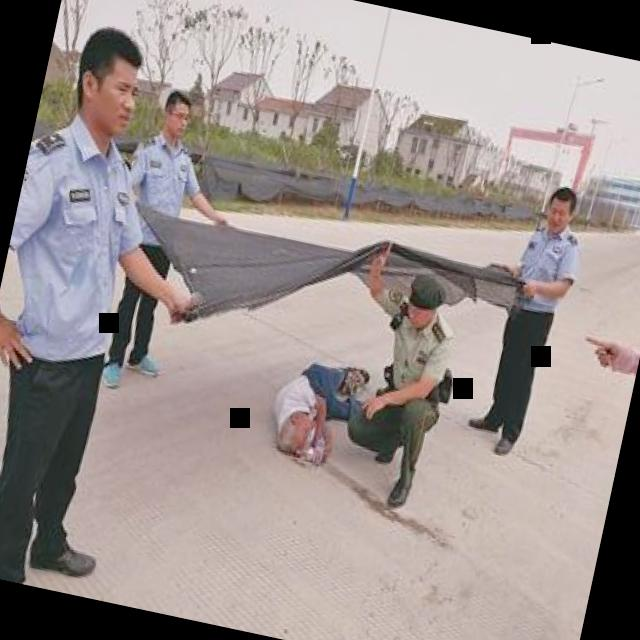Fall-Detected: (255, 336, 384, 479)
